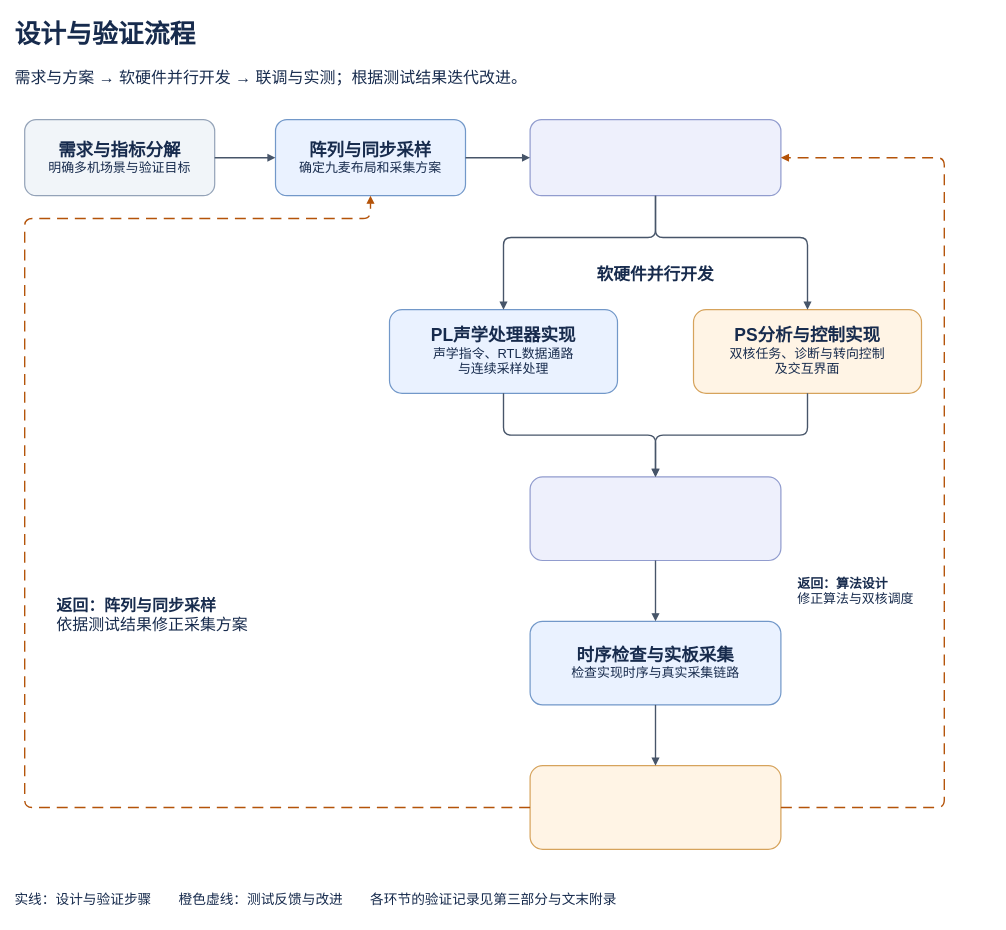
The diagram is 1006 pixels wide and 930 high, and some of its shapes have lost their labels. Here are the shapes that lost their labels. From the top down, the centre of each, then its label:
At (x=655, y=157): "算法参考与定点设计 定位、分离、诊断与数值规则".
At (x=655, y=518): "模块验证与软硬件联调 核对参考结果，检查接口与协同".
At (x=655, y=807): "物理标定与真实故障验收 幅相标定、多机故障归因 记录与复核".
